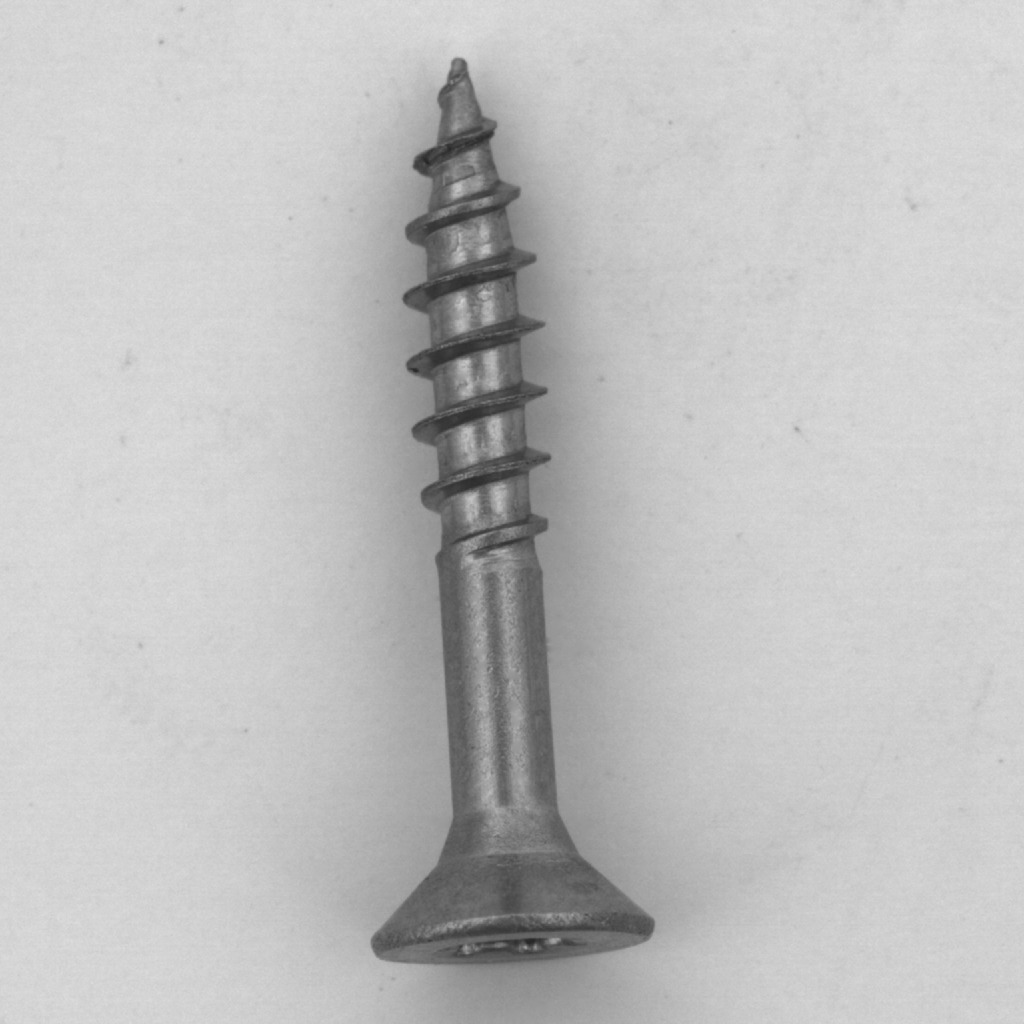good: (356, 45, 677, 992)
